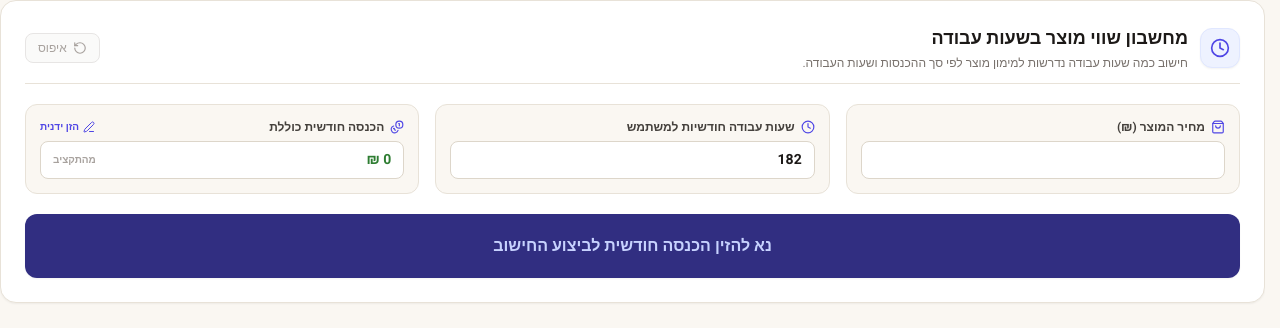
Test case: WorkHoursCostCalculator Component › allows manual income override when no budget income is defined
Fill price
Type "1000" into the number field named "מחיר המוצר" at (1043, 160), box left=861, top=141, right=1225, bottom=179
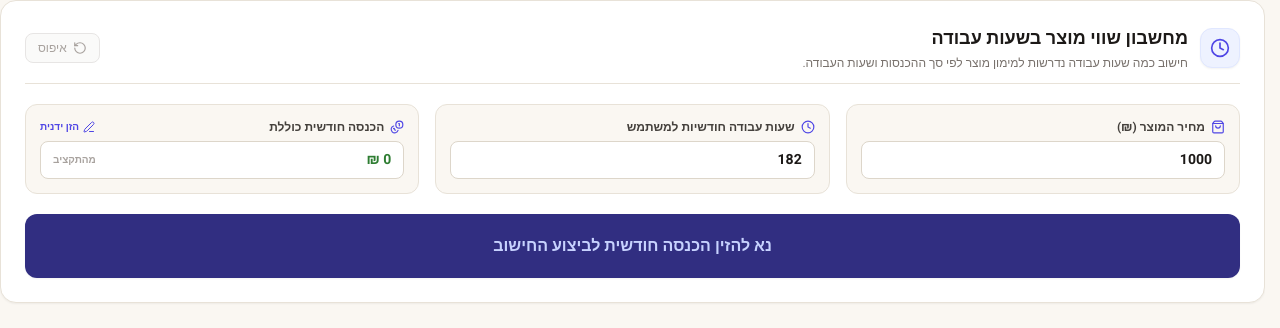
Toggle custom income
Click the button "הזן ידנית" at (68, 127), box left=40, top=120, right=95, bottom=134
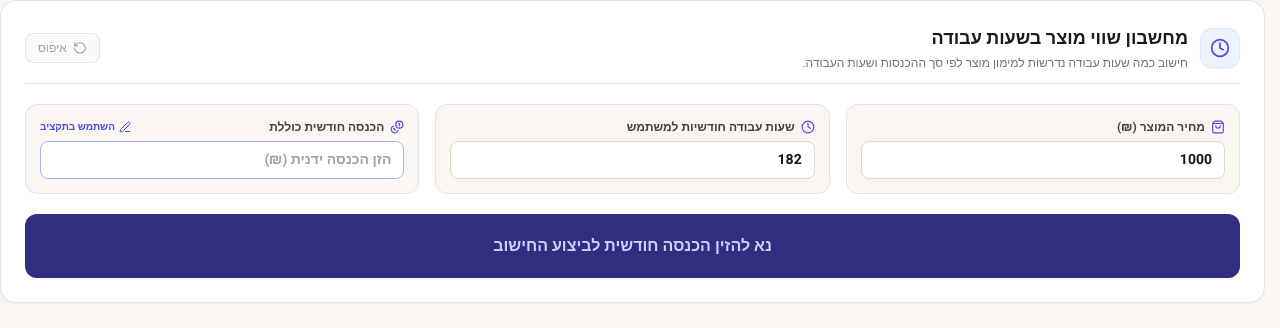
Type "18200" into the number field with placeholder "הזן הכנסה ידנית (₪)" at (222, 160), box left=40, top=141, right=404, bottom=179
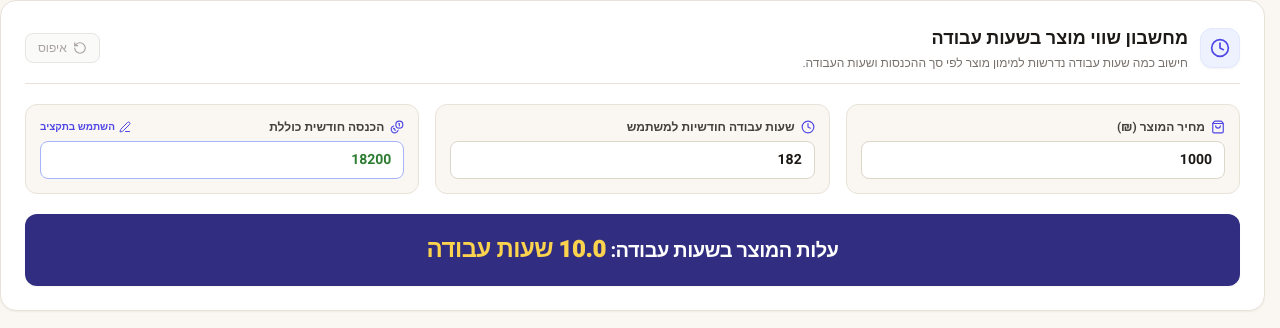
Result: the text "10.0 שעות עבודה" is shown at left=426, top=232, right=606, bottom=267
